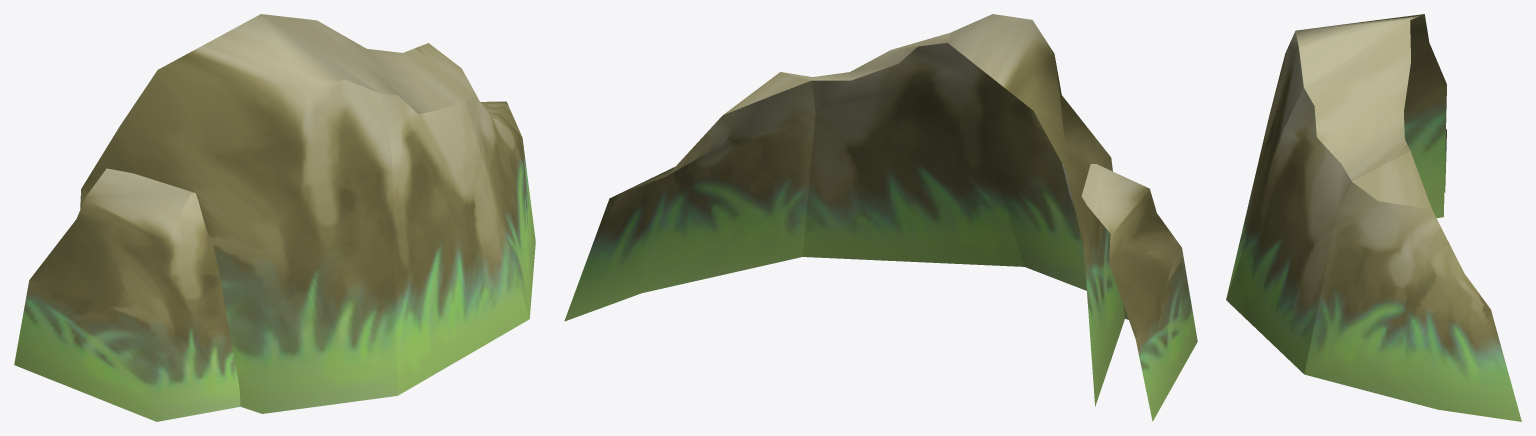
Rendered from OM_S01_ny_rock01AA.fbx.
3 renders of one model, left to right at view 1: azimuth 30°, elevation 25°; view 2: azimuth 150°, elevation 25°; view 3: azimuth 270°, elevation 25°, orthographic. The views are drawn at different scales.
Parts seen in each view (by area): view 1: OM_S01_ny_rock01AA; view 2: OM_S01_ny_rock01AA; view 3: OM_S01_ny_rock01AA.
Part boxes in pixels (x1=…): OM_S01_ny_rock01AA: x1=14, y1=14, x2=535, y2=421; OM_S01_ny_rock01AA: x1=564, y1=14, x2=1197, y2=421; OM_S01_ny_rock01AA: x1=1226, y1=14, x2=1521, y2=421.
Bounding box in the file's own units: 149 × 80.89 × 81.15.
